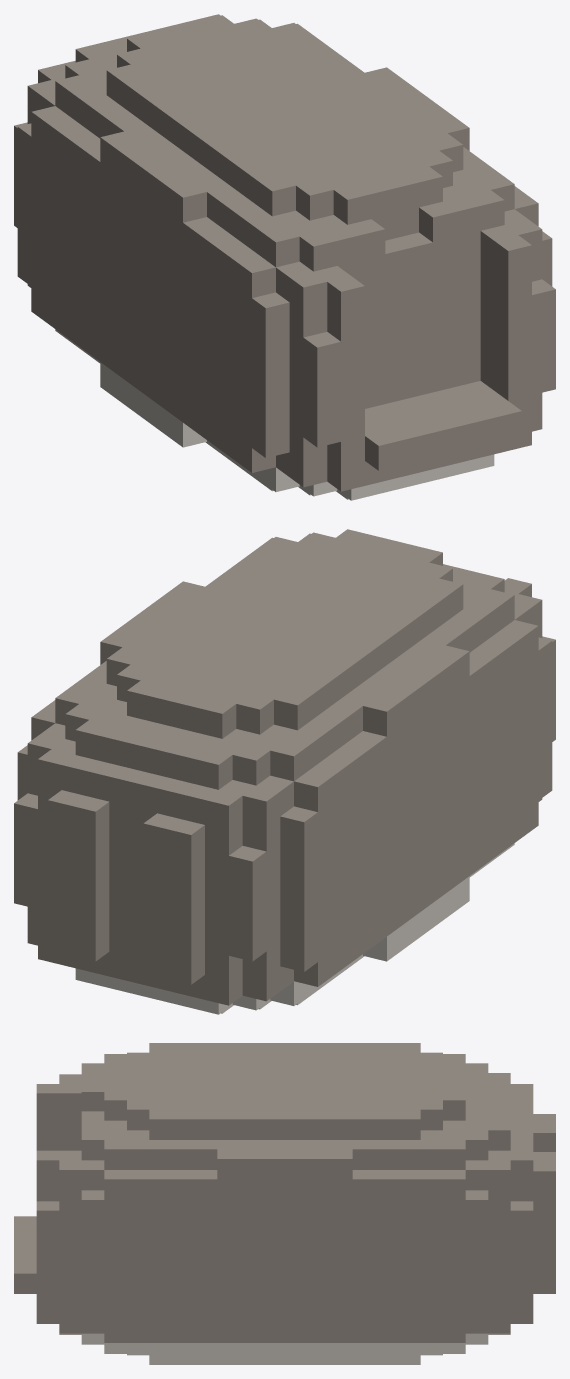
File: donkey__body.glb
3 views of the same model, one above another, from view 1: azimuth 30°, elevation 25°; view 2: azimuth 150°, elevation 25°; view 3: azimuth 270°, elevation 25° (orthographic). The views are drawn at different scales.
Visible parts, largest first — view 1: donkey__body; view 2: donkey__body; view 3: donkey__body.
Boxes of the visible parts, box(x1,y1,x2,y2) form: donkey__body: box(14, 14, 555, 500); donkey__body: box(14, 529, 555, 1014); donkey__body: box(14, 1043, 555, 1364).
Bounding box in the file's own units: 1.2 × 1.2 × 2.4.
Materials: 1 (1 with a texture image).
